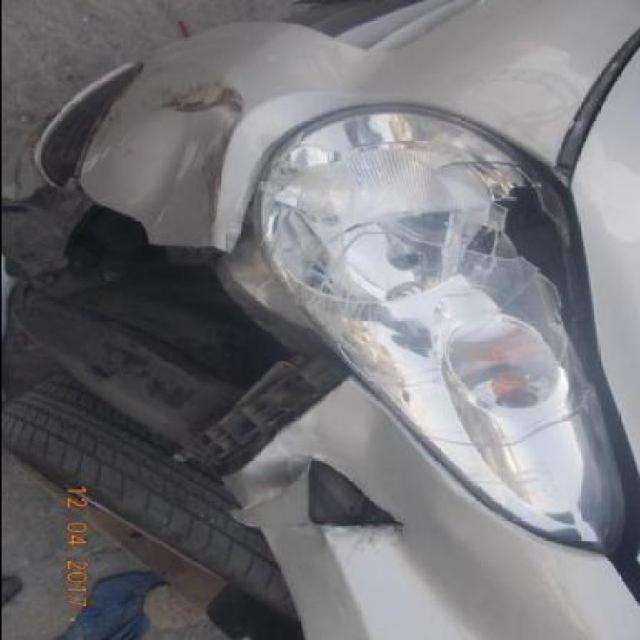damage: (0, 177, 348, 481), (488, 159, 615, 404), (221, 422, 315, 531), (302, 455, 403, 535), (201, 106, 247, 227), (160, 76, 246, 120)
